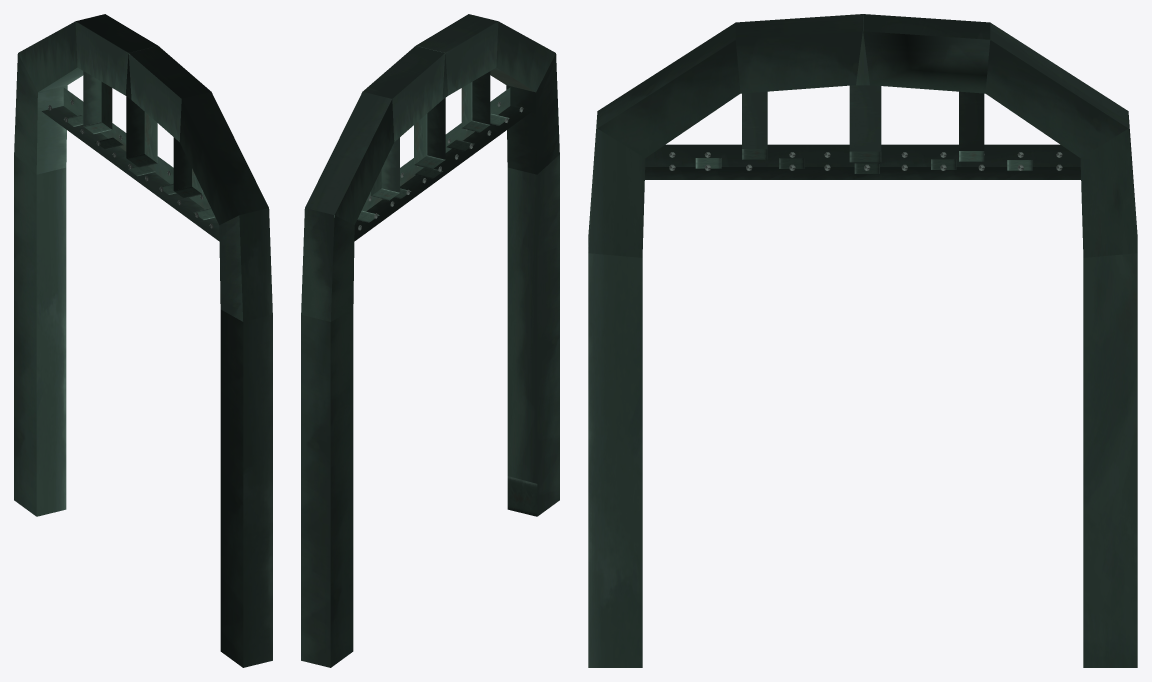
The model's file is GateFrame.fbx.
3 views of the same model, side by side, from view 1: azimuth 30°, elevation 25°; view 2: azimuth 150°, elevation 25°; view 3: azimuth 270°, elevation 25° (orthographic). The views are drawn at different scales.
Visible parts, largest first — view 1: Cylinder_1; view 2: Cylinder_1; view 3: Cylinder_1.
Boxes of the visible parts, x1=… form: Cylinder_1: x1=14, y1=14, x2=272, y2=667; Cylinder_1: x1=301, y1=14, x2=559, y2=667; Cylinder_1: x1=588, y1=14, x2=1137, y2=667.
Bounding box in the file's own units: 47.92 × 818 × 640.
Materials: 4 (4 with a texture image).
